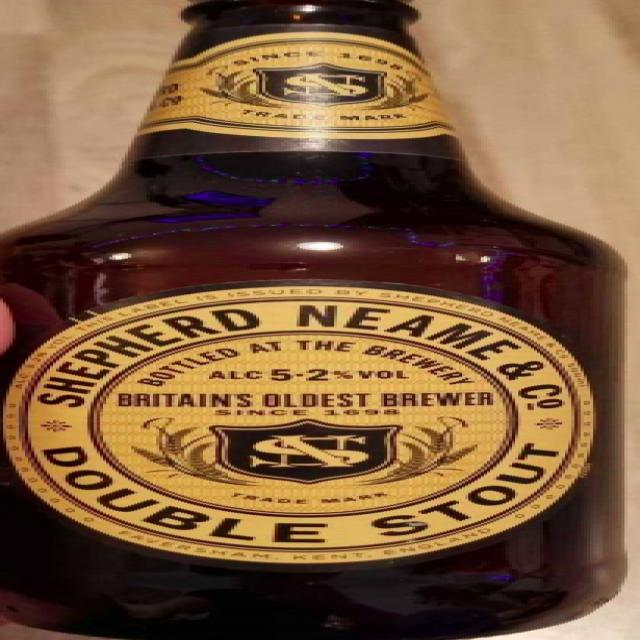Sheperd Neame DOUBLE STOUT: (0, 1, 640, 640)
